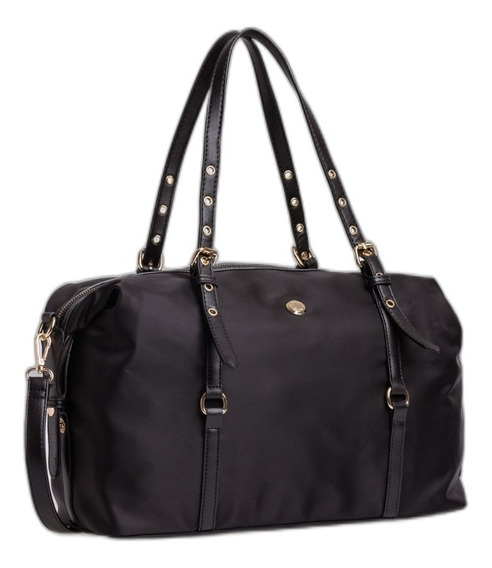cartera: (24, 29, 468, 540)
